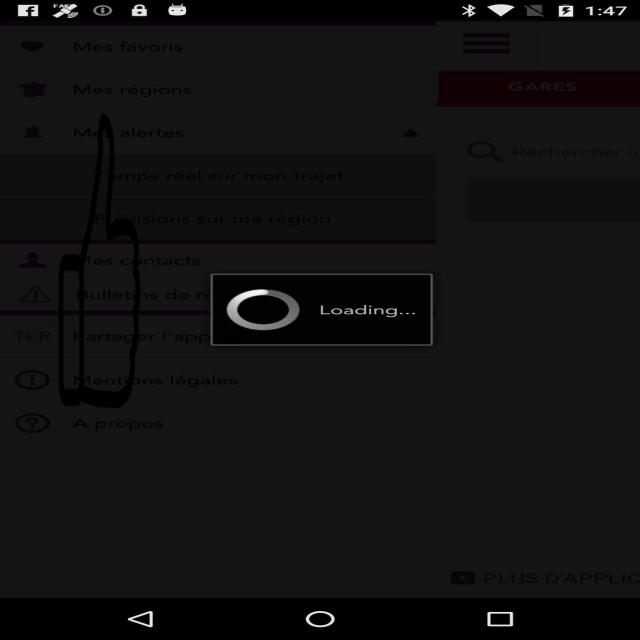privacy zuckering: (57, 114, 142, 408)
